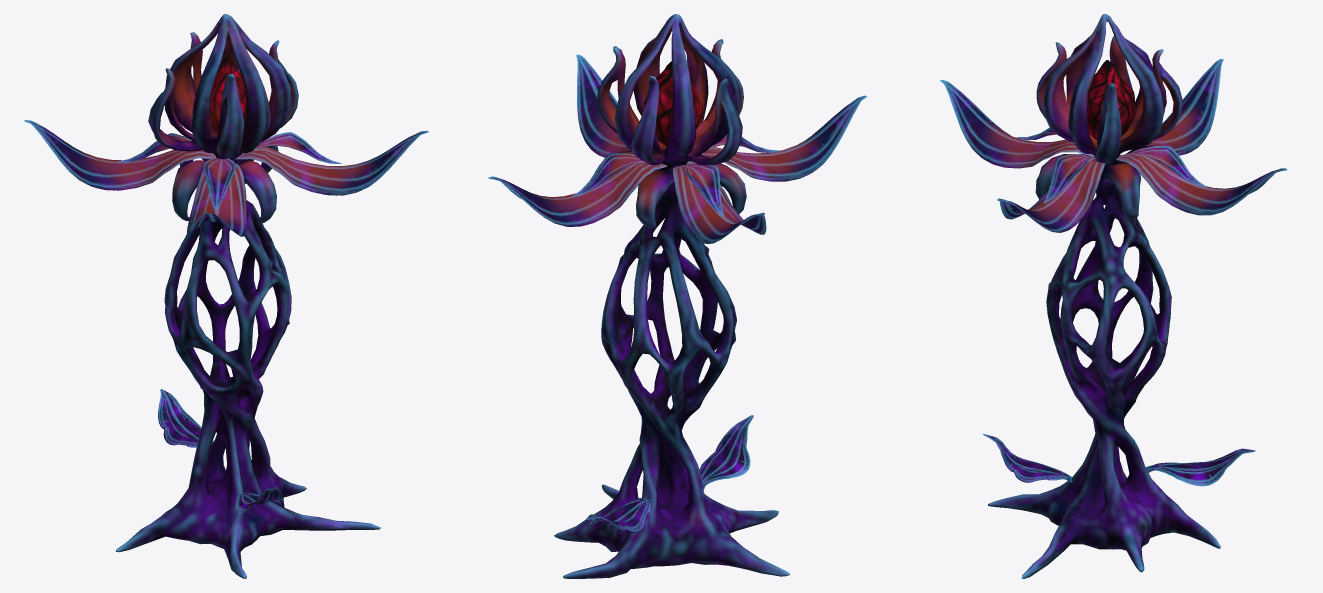
The model's file is Planta_Alien.obj.
3 renders of one model, left to right at view 1: azimuth 30°, elevation 25°; view 2: azimuth 150°, elevation 25°; view 3: azimuth 270°, elevation 25°, orthographic. The views are drawn at different scales.
Parts seen in each view (by area): view 1: Parte1, Parte0; view 2: Parte1, Parte0; view 3: Parte1, Parte0.
Part boxes in pixels (x1,y1,x2,y2): Parte1: (115,14,380,578); Parte0: (24,68,428,513); Parte1: (554,14,789,578); Parte0: (488,54,866,532); Parte1: (988,14,1220,578); Parte0: (940,58,1287,486).
Bounding box in the file's own units: 6.11 × 9 × 6.26.
